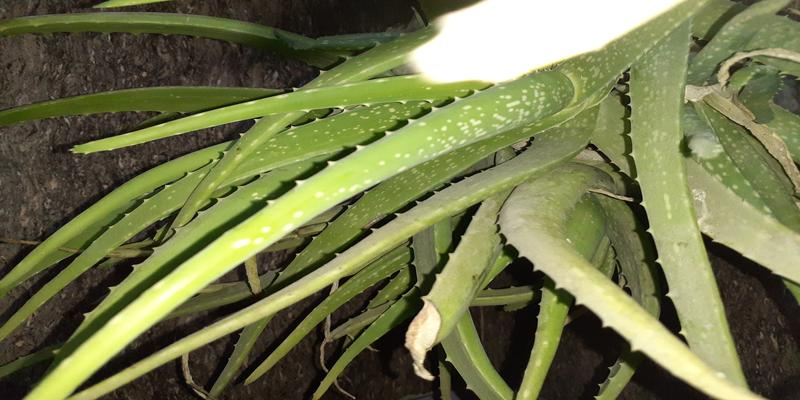Aloevera: (125, 31, 781, 343)
